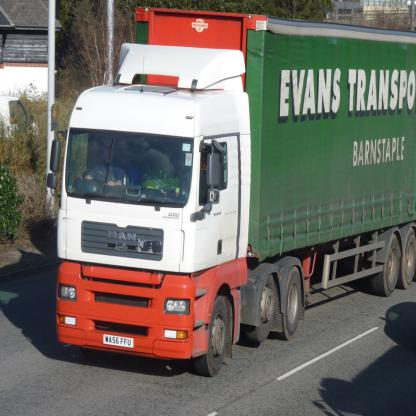Truck: (46, 4, 416, 377)
